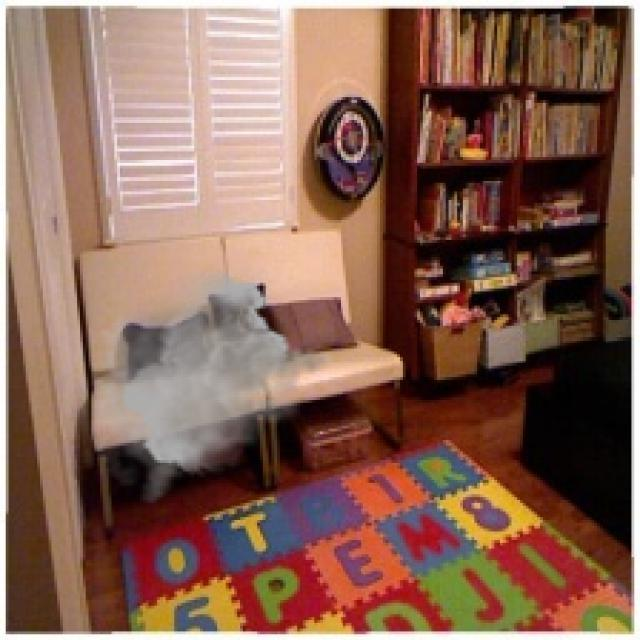Smoke: (89, 268, 338, 506)
